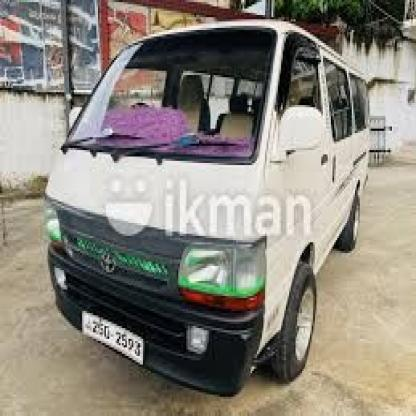number plate: (88, 317, 142, 363)
van front: (43, 9, 370, 406)
